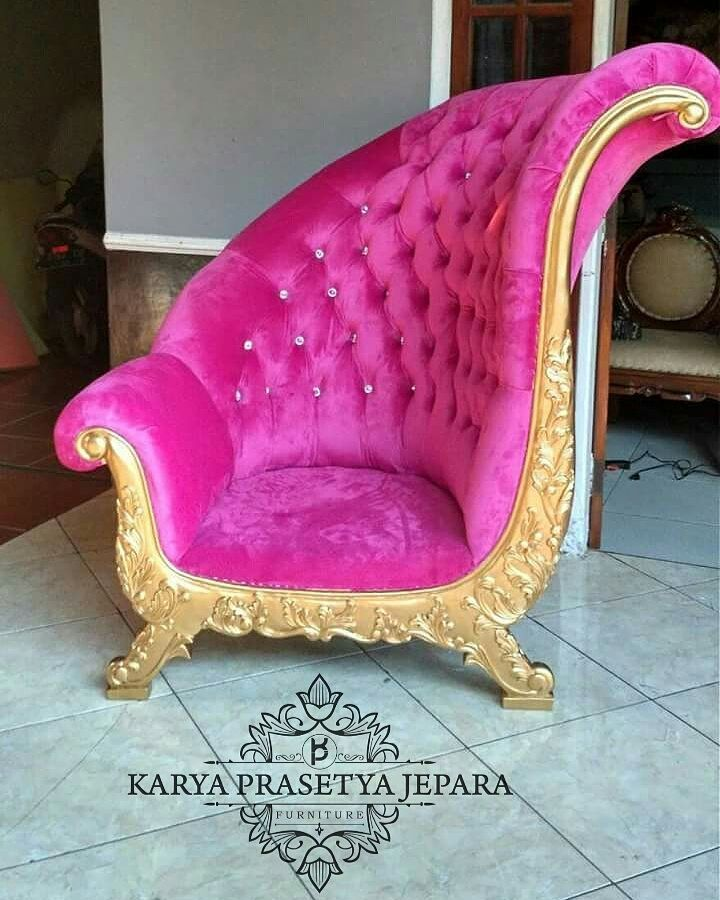Carving Chair: (87, 80, 673, 730)
